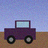vehicle: (4, 21, 35, 44)
